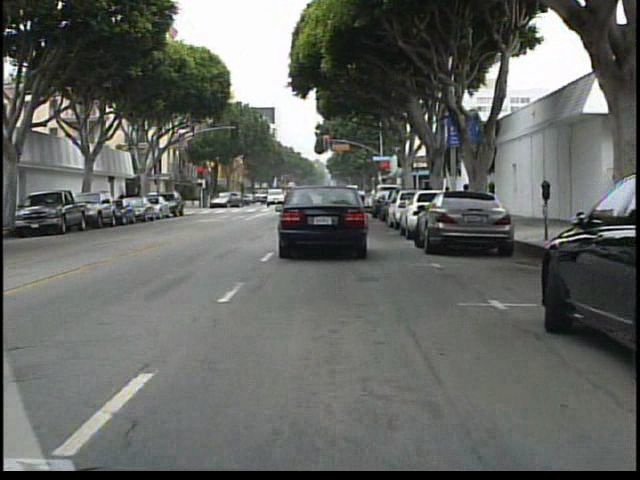person: (116, 190, 130, 218)
